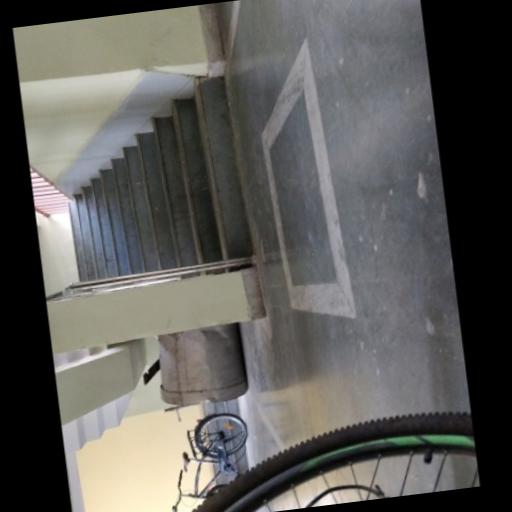stairs: (70, 78, 251, 281), (203, 399, 239, 416)
